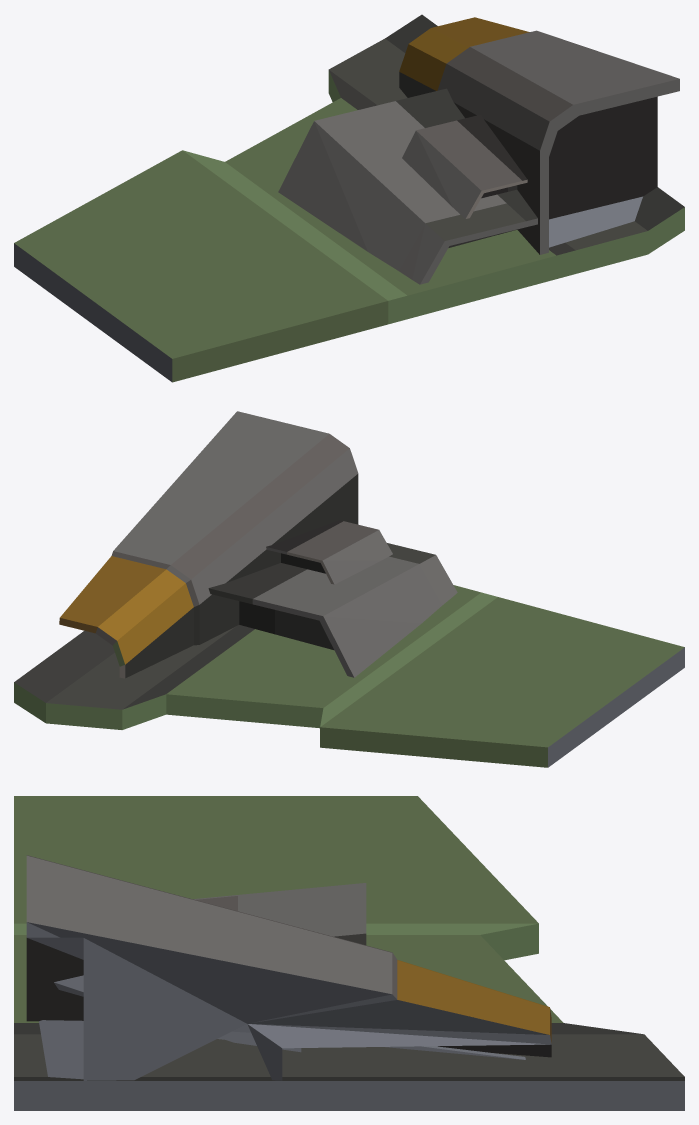
File: wing_port.glb
The picture shows the model from 3 angles, top to bottom: view 1: azimuth 30°, elevation 25°; view 2: azimuth 150°, elevation 25°; view 3: azimuth 270°, elevation 25°; orthographic projection. The views are drawn at different scales.
Bounding box in the file's own units: 1.33 × 0.4338 × 1.18.
